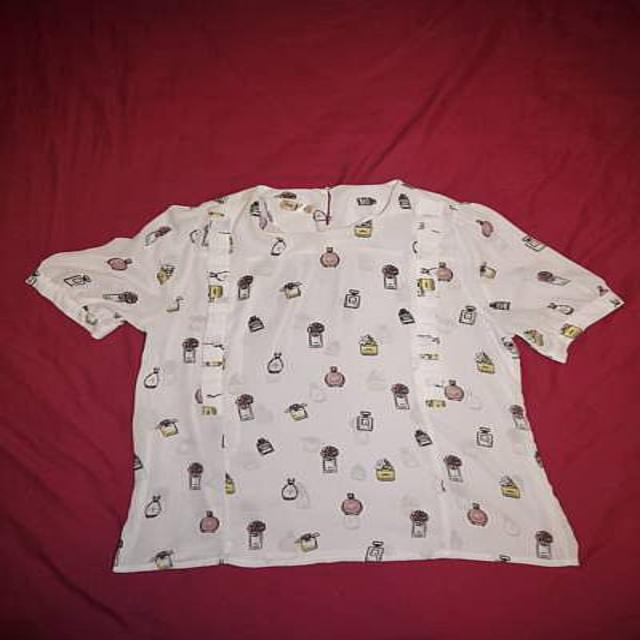T_SHIRT: (28, 167, 626, 591)
